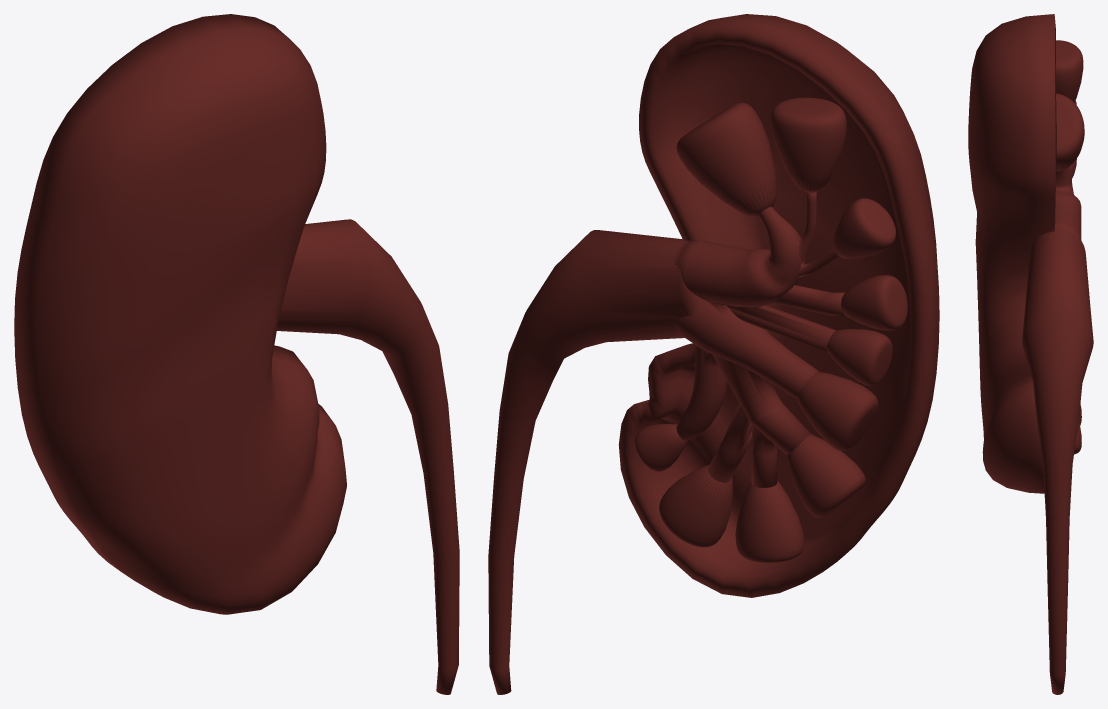
Rendered from KidneyOneMaterial.fbx.
3 renders of one model, left to right at view 1: azimuth 30°, elevation 25°; view 2: azimuth 150°, elevation 25°; view 3: azimuth 270°, elevation 25°, orthographic. The views are drawn at different scales.
Visible parts, largest first — view 1: Renal Pelvis; view 2: Renal Pelvis; view 3: Renal Pelvis.
Boxes of the visible parts, x1,y1,x2,y2 form: Renal Pelvis: (14, 14, 459, 694); Renal Pelvis: (488, 14, 939, 694); Renal Pelvis: (968, 14, 1093, 694).
Bounding box in the file's own units: 268 × 424 × 84.2.
